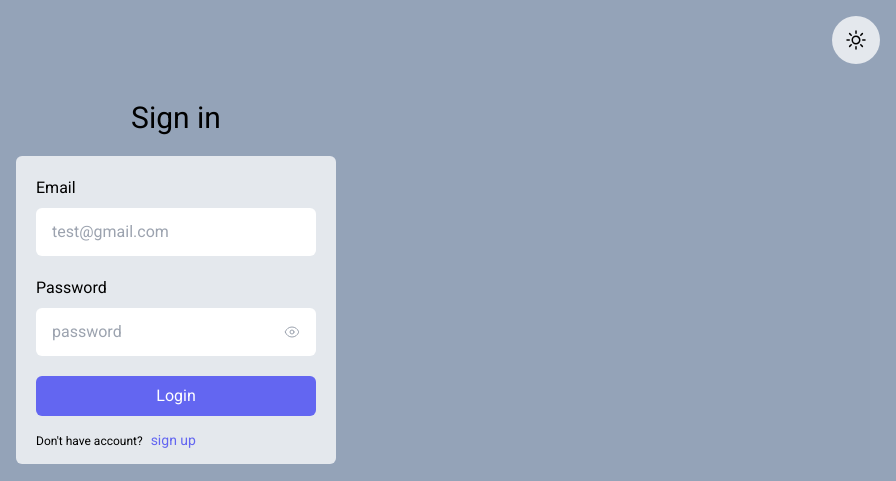
Test: Have an account
Click the link "sign up": {"x": 173, "y": 440} [151,432,196,448]
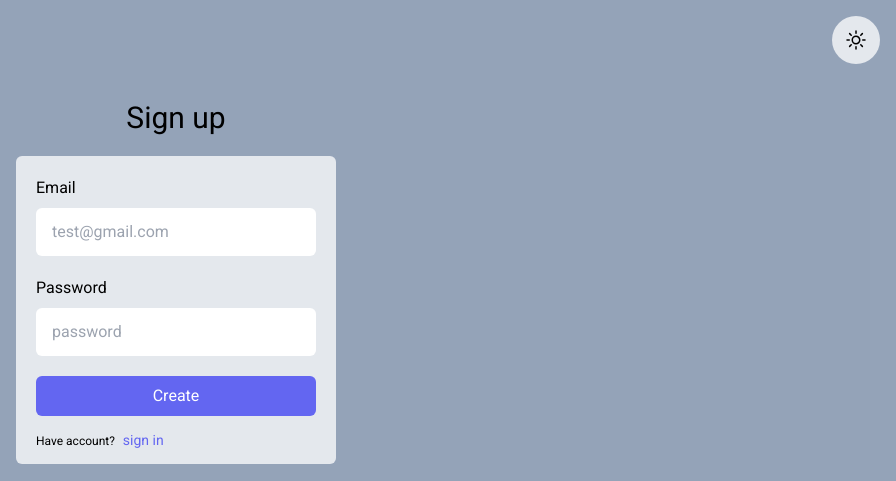
Result: the link "sign in" is shown
Click the link "sign in": {"x": 143, "y": 440} [123,432,164,448]
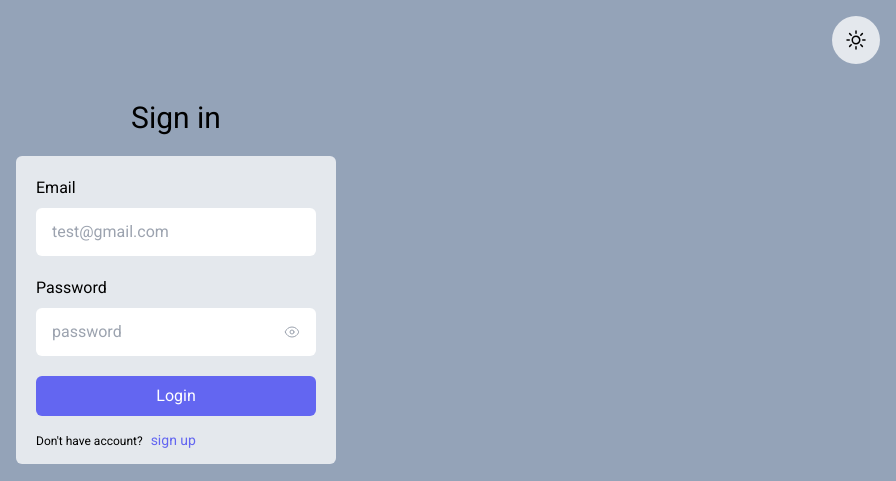
Result: the heading "Sign in" is shown at [131,100,221,135]
